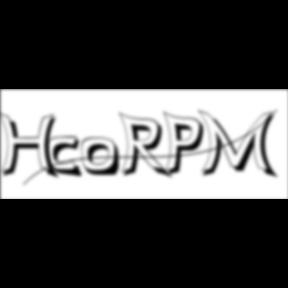H: (0, 112, 64, 182)
M: (197, 108, 281, 181)
P: (164, 110, 210, 180)
R: (118, 112, 176, 182)
c: (47, 136, 87, 180)
o: (81, 137, 123, 179)
